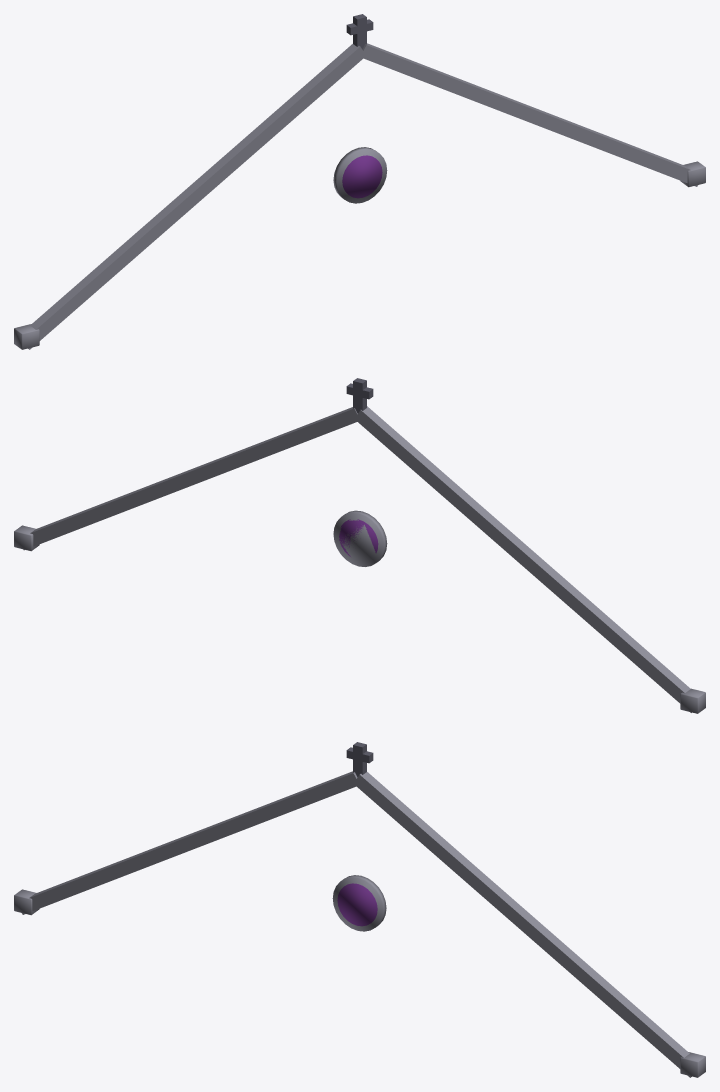
The model's file is kit_church_gable_w11.glb.
3 renders of one model, top to bottom at view 1: azimuth 30°, elevation 25°; view 2: azimuth 150°, elevation 25°; view 3: azimuth 330°, elevation 25°, orthographic.
Parts seen in each view (by area): view 1: kit_church_gable_w11; view 2: kit_church_gable_w11; view 3: kit_church_gable_w11.
Boxes of the visible parts, x1=… form: kit_church_gable_w11: x1=14, y1=14, x2=705, y2=349; kit_church_gable_w11: x1=14, y1=378, x2=705, y2=713; kit_church_gable_w11: x1=14, y1=742, x2=705, y2=1077.
Size of the model in its own units: 11.42 by 3.98 by 0.24.
